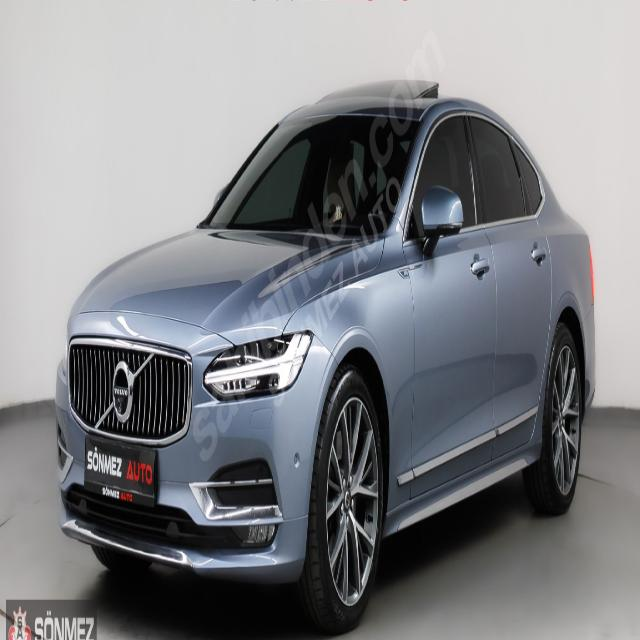volvo: (111, 356, 135, 426)
